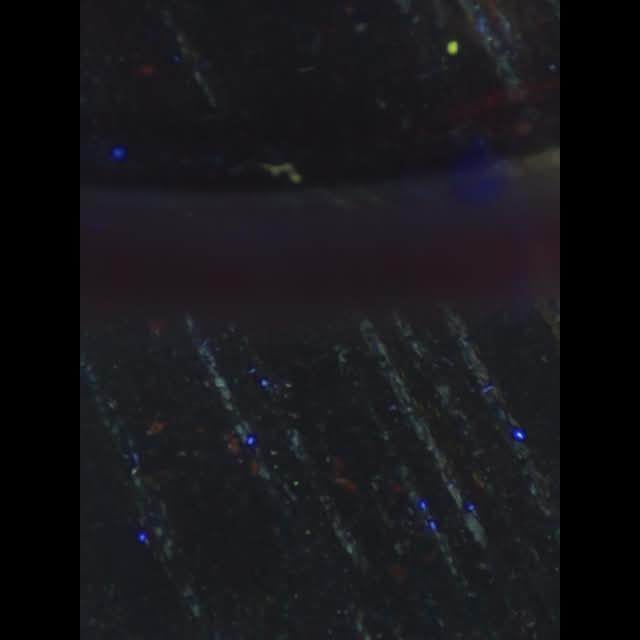Fibre: (262, 160, 304, 186)
microbeads: (446, 40, 458, 58)
